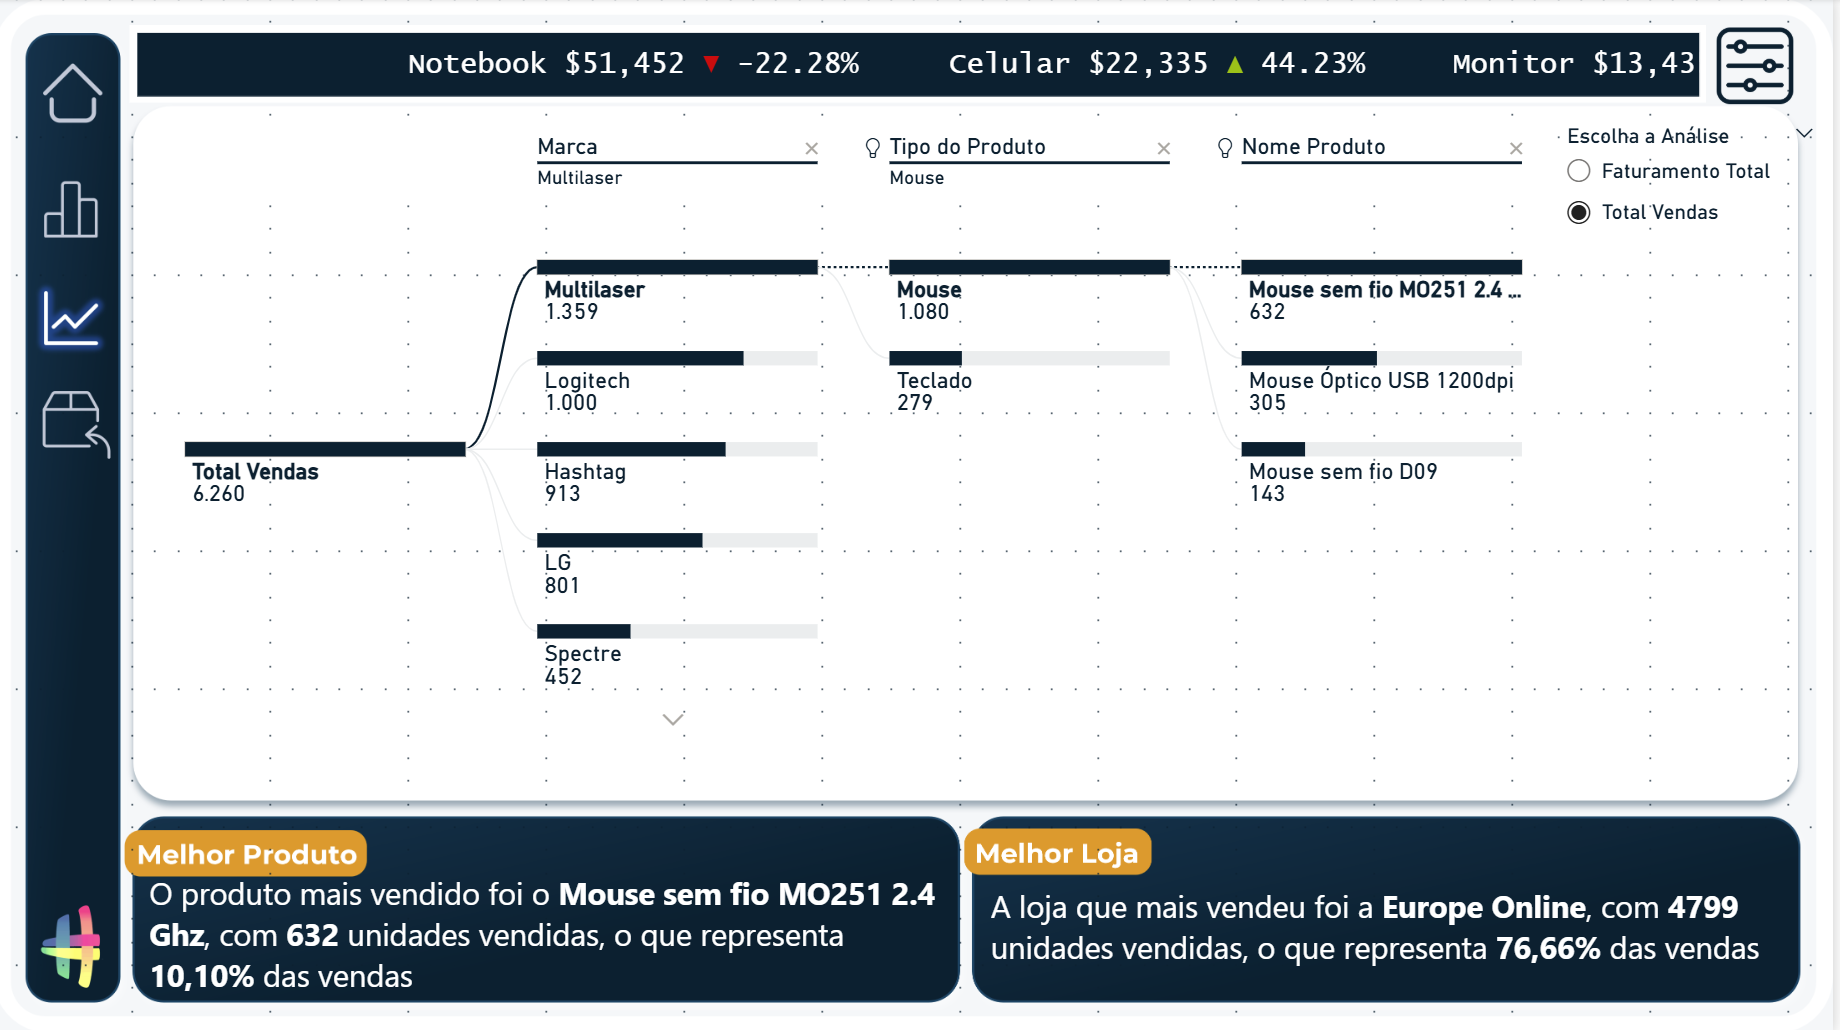

Layout of this report page (visuals, bound fields, positions):
{"tool":"powerbi","page":{"name":"Análises","canvas":[1280,720],"ordinal":2},"visuals":[{"type":"image","title":"Botão Filtro","box":[1193.6,12.7,63.6,69.9],"z":0},{"type":"decompositionTreeVisual","fields":{"Analyze":["Medidas.Total Vendas"],"ExplainBy":["dProdutos.Marca","dProdutos.Tipo do Produto","dProdutos.Nome Produto"]},"box":[103.3,77.9,979.1,453],"z":1000},{"type":"slicer","fields":{"Values":["Parâmetro.Parâmetro"]},"box":[1082.4,82.6,197.1,138.3],"z":2000},{"type":"enlightenDataStoryDDFB78A6143E42CFAFBC50CCF18D978D","fields":{"measure":["Medidas.Produto Mais Vendido","Medidas.Qtd Vendida (Top 1 Produto)","Medidas.% das Vendas (Top 1 Produto)"]},"box":[103.3,602.4,559.5,97],"z":3000},{"type":"enlightenDataStoryDDFB78A6143E42CFAFBC50CCF18D978D","fields":{"measure":["Medidas.Loja + Vendas","Medidas.Qtd Vendida (Loja + Vendas)","Medidas.% das Vendas (Loja + Vendas)"]},"box":[688.2,611.9,559.5,97],"z":4000},{"type":"ScrollingTextVisual1448795304508","fields":{"Category":["dProdutos.Tipo do Produto"],"Measure Absolute":["Medidas.Faturamento Total"],"Measure Deviation":["Medidas.% Crescimento MoM"]},"box":[95.4,19.1,1096.7,54],"z":5000},{"type":"actionButton","box":[25.4,38.1,55.6,60.4],"z":7000},{"type":"actionButton","box":[27,262.3,55.6,60.4],"z":8000},{"type":"actionButton","box":[27,117.6,55.6,60.4],"z":9000}]}

Visuals, with their boxes on the page's 1280x720 design canvas (x1, y1, x2, y2). These are canvas units, not pixel positions in the 1840x1030 screenshot, which may show the page scaled, cropped or inside an application window:
"Botão Filtro" image: [left=1194, top=13, right=1257, bottom=83]
decompositionTreeVisual - Medidas.Total Vendas x dProdutos.Marca: [left=103, top=78, right=1082, bottom=531]
slicer - Parâmetro.Parâmetro: [left=1082, top=83, right=1280, bottom=221]
enlightenDataStoryDDFB78A6143E42CFAFBC50CCF18D978D - Medidas.Produto Mais Vendido x Medidas.Qtd Vendida (Top 1 Produto): [left=103, top=602, right=663, bottom=699]
enlightenDataStoryDDFB78A6143E42CFAFBC50CCF18D978D - Medidas.Loja + Vendas x Medidas.Qtd Vendida (Loja + Vendas): [left=688, top=612, right=1248, bottom=709]
ScrollingTextVisual1448795304508 - dProdutos.Tipo do Produto x Medidas.Faturamento Total: [left=95, top=19, right=1192, bottom=73]
actionButton: [left=25, top=38, right=81, bottom=98]
actionButton: [left=27, top=262, right=83, bottom=323]
actionButton: [left=27, top=118, right=83, bottom=178]
